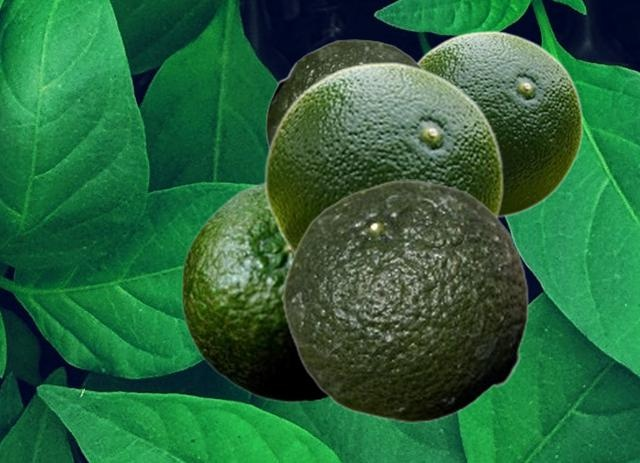calamansi: (282, 179, 528, 422), (263, 61, 504, 255), (180, 179, 330, 402), (417, 30, 583, 217), (265, 39, 425, 148)
